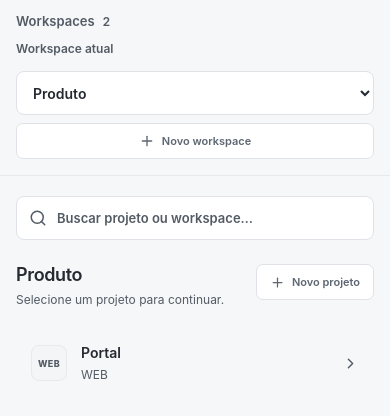
Test: provides the same workspace selection through the mobile control
The width and height of the screenshot is (390, 416).
Select "Equipe" in the dropdown labelled "Workspace atual" at (195, 93), box [16,71,374,115]
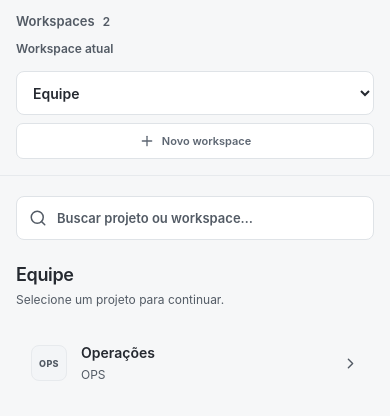
expect the button with class "navigator-project" shows "Operações": met, box [18,327,372,399]
